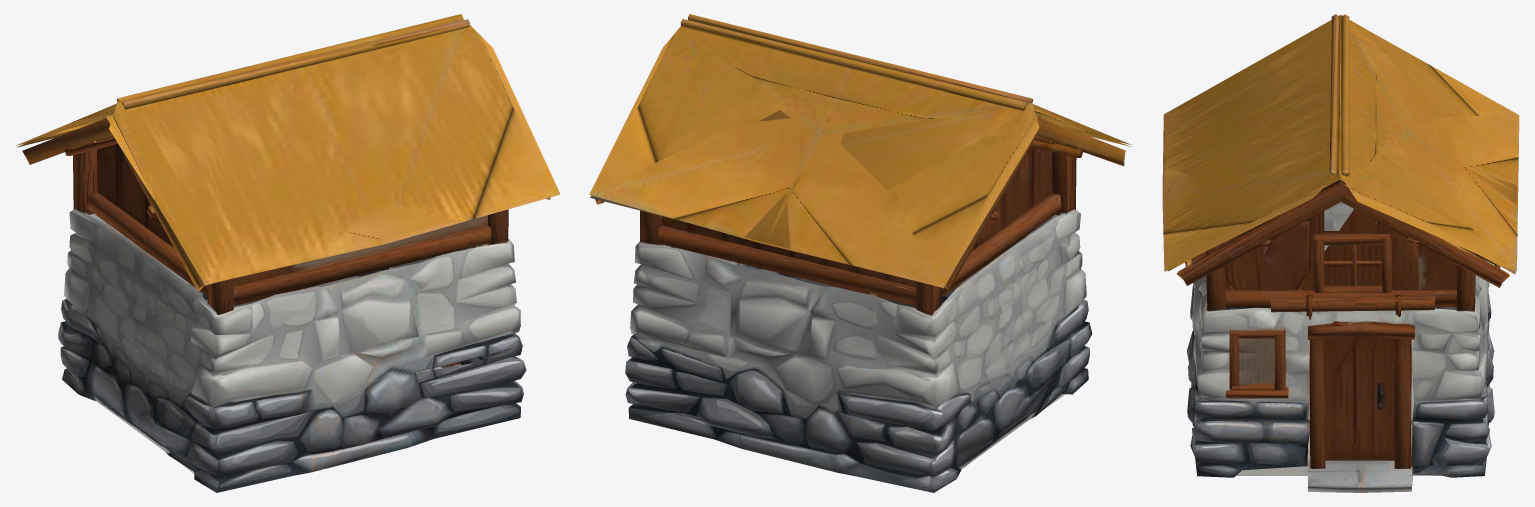
File: world-house-b.glb
3 views of the same model, side by side, from view 1: azimuth 30°, elevation 25°; view 2: azimuth 150°, elevation 25°; view 3: azimuth 270°, elevation 25° (orthographic). The views are drawn at different scales.
Bounding box in the file's own units: 3 × 2.62 × 2.67.
Materials: 1 (1 with a texture image).
